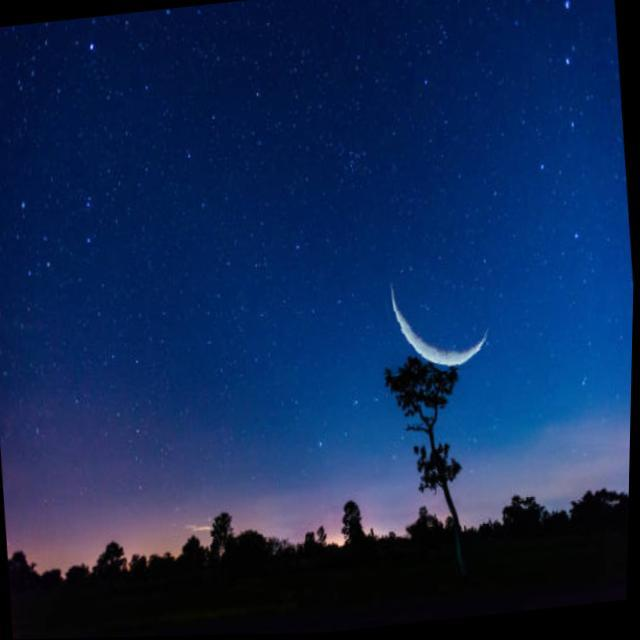moon: (366, 219, 496, 380)
